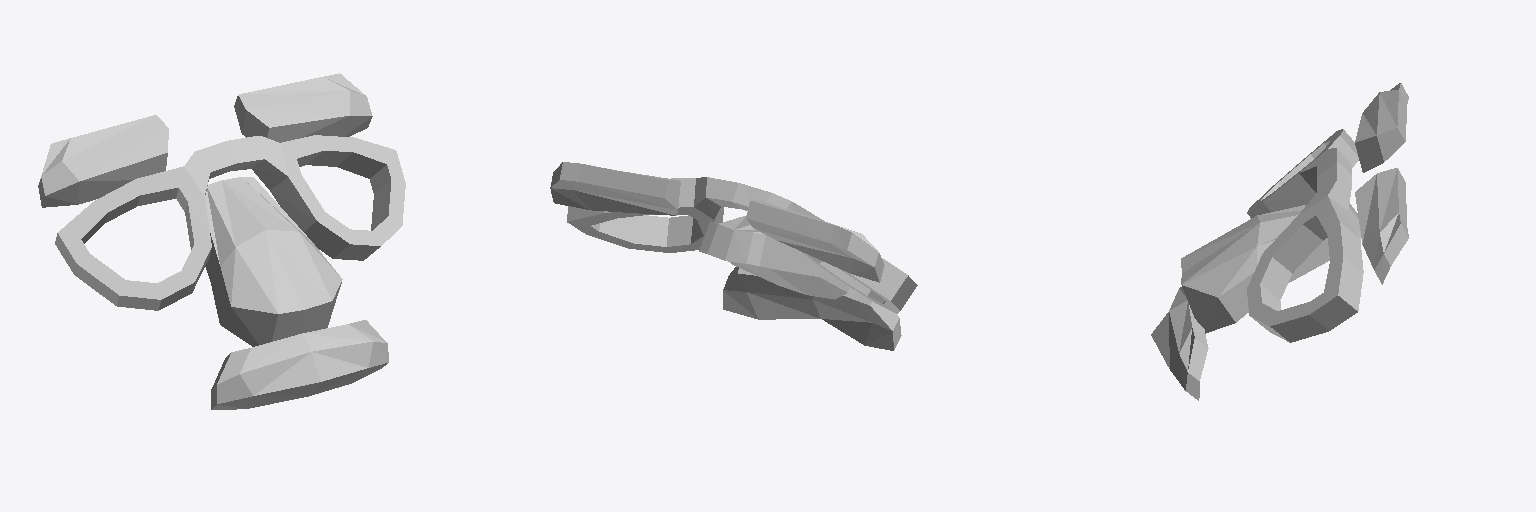
The model's file is disguise_mask.obj.
3 views of the same model, side by side, from view 1: azimuth 30°, elevation 25°; view 2: azimuth 150°, elevation 25°; view 3: azimuth 270°, elevation 25° (orthographic).
Visible parts, largest first — view 1: Cube.020_Cube.013, Cube.022_Cube.021, Cube.021_Cube.028; view 2: Cube.020_Cube.013, Cube.022_Cube.021, Cube.021_Cube.028; view 3: Cube.022_Cube.021, Cube.020_Cube.013, Cube.021_Cube.028.
Part boxes in pixels (x1,y1,x2,y2): Cube.020_Cube.013: (38, 73, 388, 409); Cube.022_Cube.021: (55, 135, 405, 310); Cube.021_Cube.028: (205, 177, 342, 346); Cube.020_Cube.013: (550, 162, 901, 350); Cube.022_Cube.021: (567, 177, 917, 313); Cube.021_Cube.028: (699, 215, 848, 299); Cube.022_Cube.021: (1247, 129, 1363, 342); Cube.020_Cube.013: (1151, 83, 1408, 400); Cube.021_Cube.028: (1181, 204, 1361, 333).
Bounding box in the file's own units: 0.8535 × 0.5222 × 0.5634.